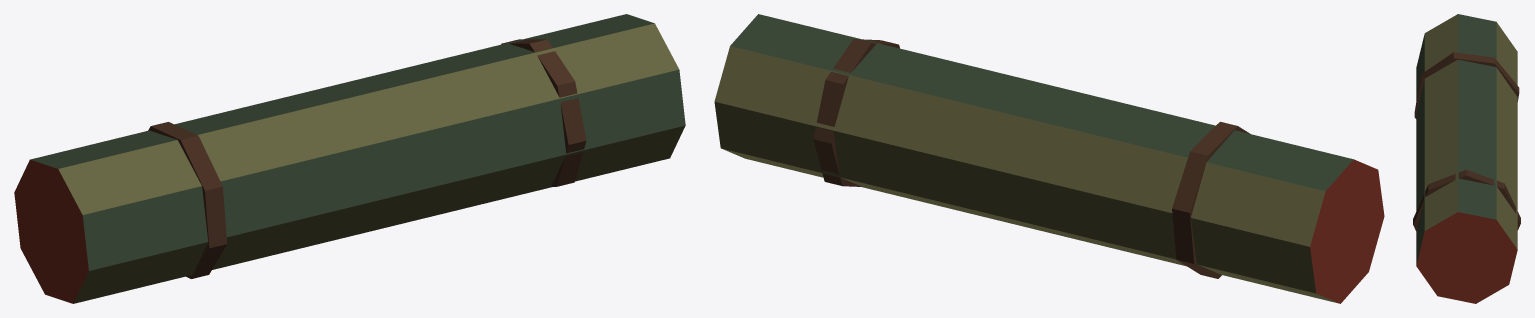
The model's file is bedroll.glb.
3 renders of one model, left to right at view 1: azimuth 30°, elevation 25°; view 2: azimuth 150°, elevation 25°; view 3: azimuth 270°, elevation 25°, orthographic. The views are drawn at different scales.
Visible parts, largest first — view 1: bedroll; view 2: bedroll; view 3: bedroll.
Part boxes in pixels (left/top/right/bottom): bedroll: left=14, top=14, right=685, bottom=303; bedroll: left=714, top=14, right=1384, bottom=303; bedroll: left=1413, top=14, right=1520, bottom=303.
Size of the model in its own units: 1 by 0.23 by 0.23.
